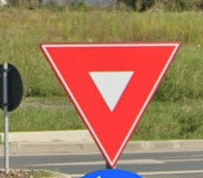cedeaza: (37, 34, 182, 169)
